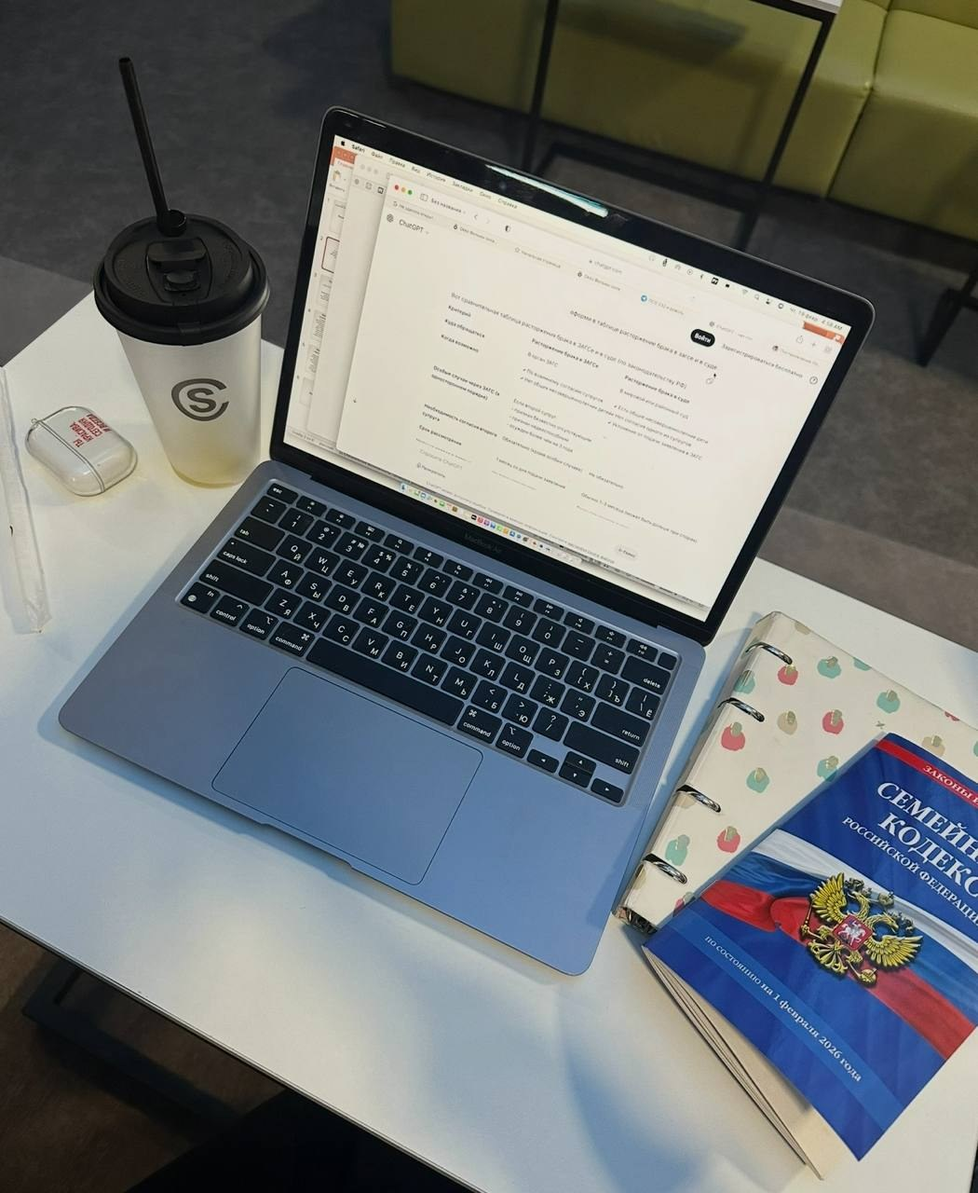laptop: (57, 103, 876, 976)
